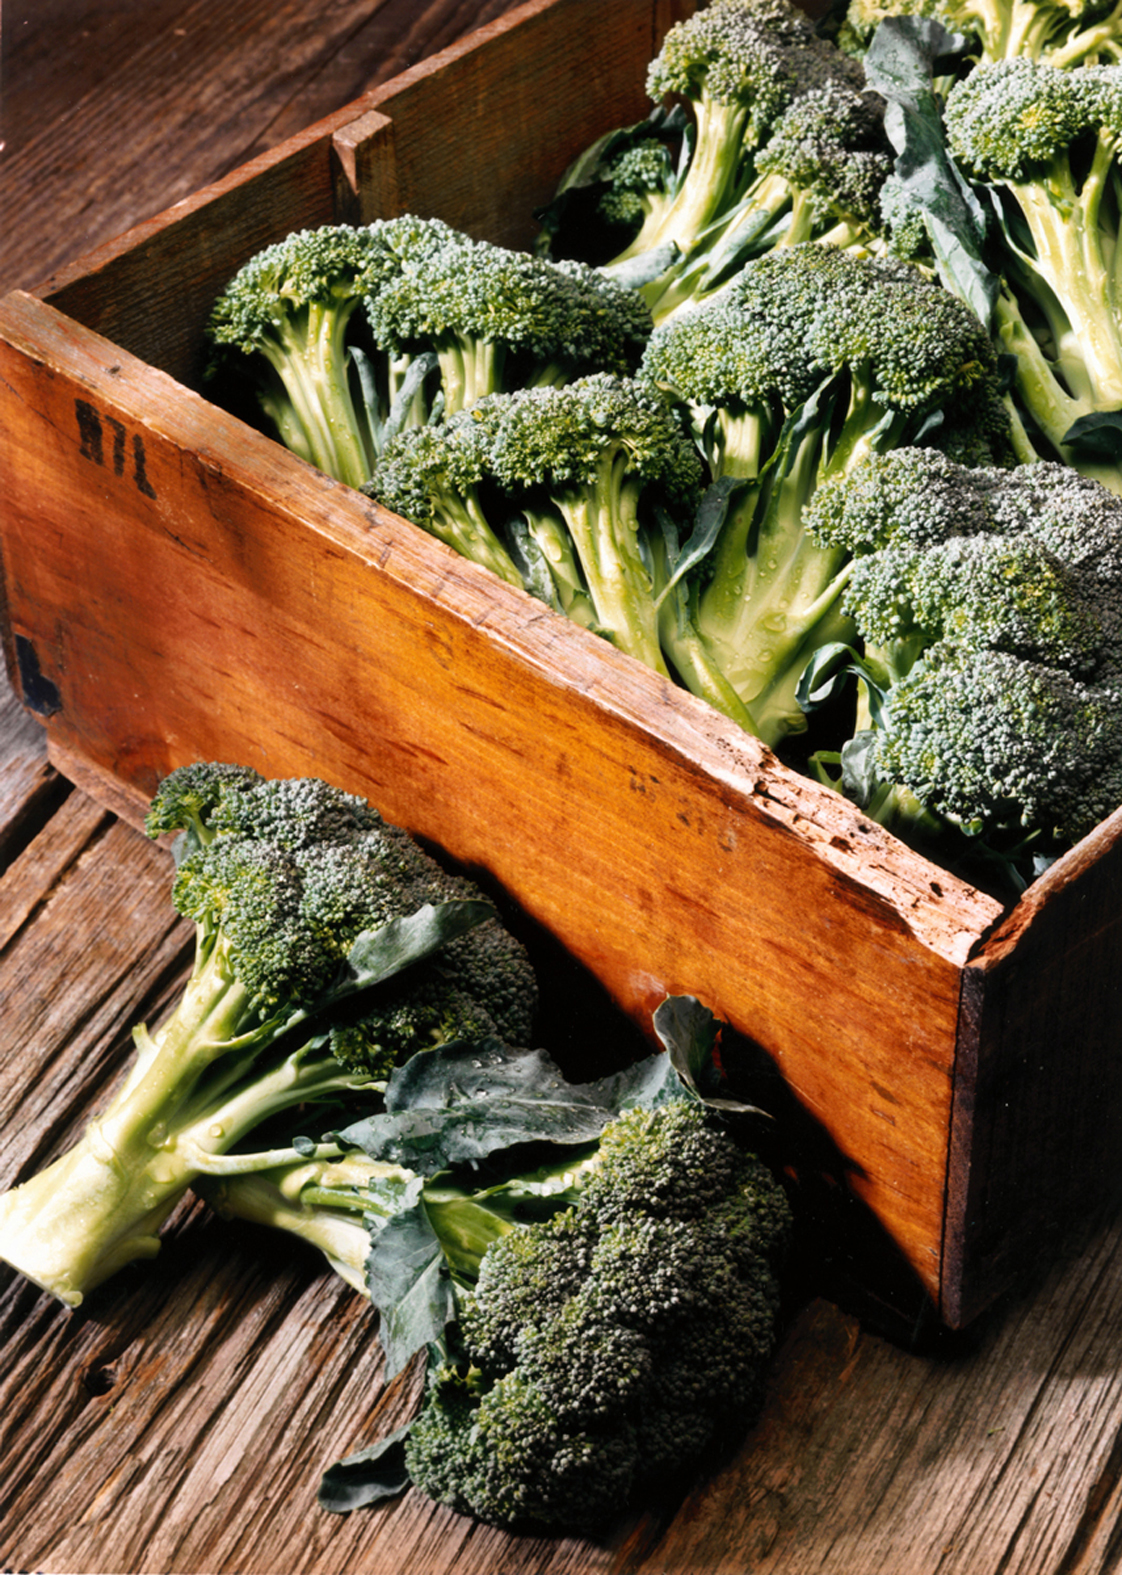broccoli: (0, 770, 529, 1326)
